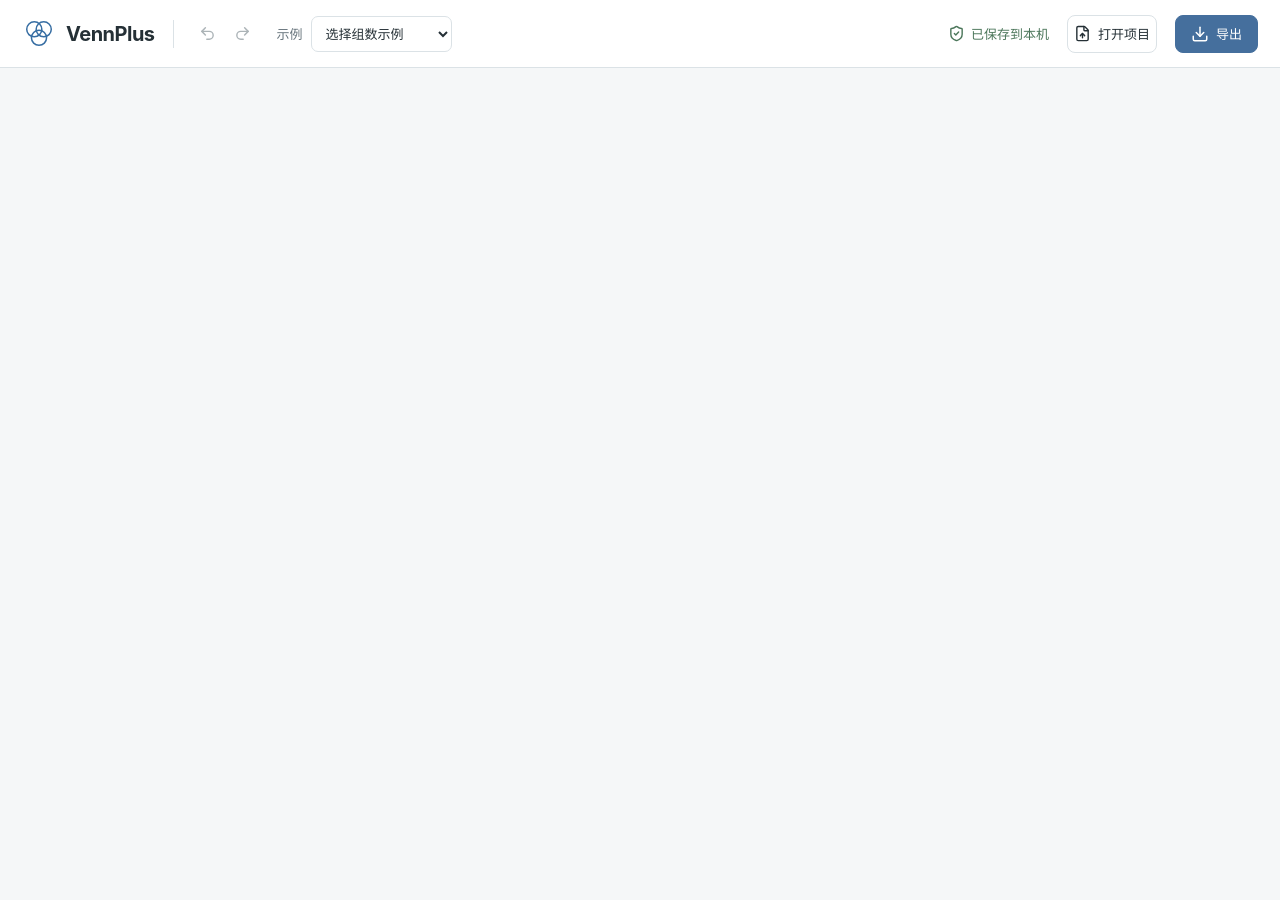
Scenario: AppHeader export dialog › closes when the user clicks outside
Click the button "导出" at (1216, 34), box [1175, 14, 1258, 52]
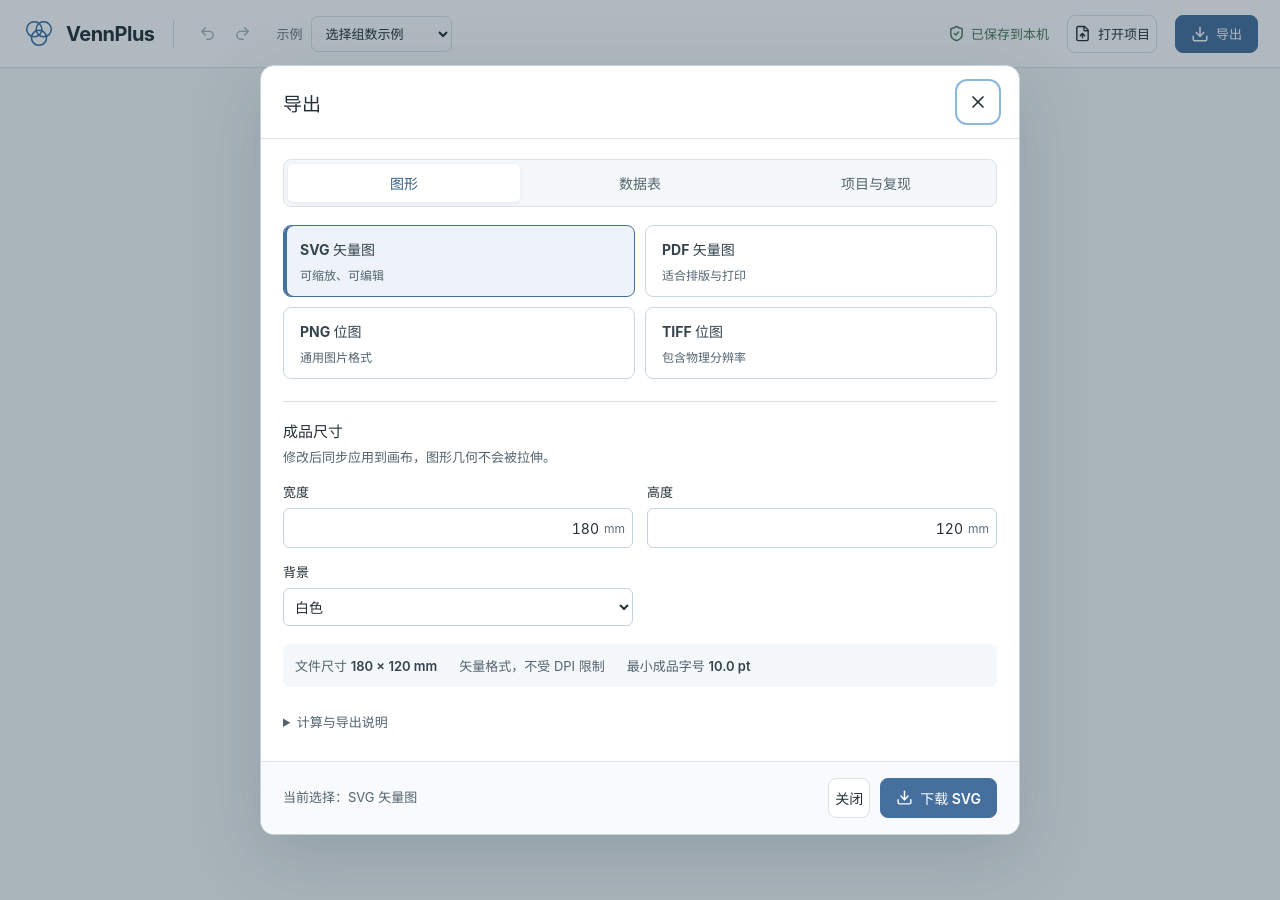
Click the dialog at (640, 450), box [260, 65, 1020, 835]
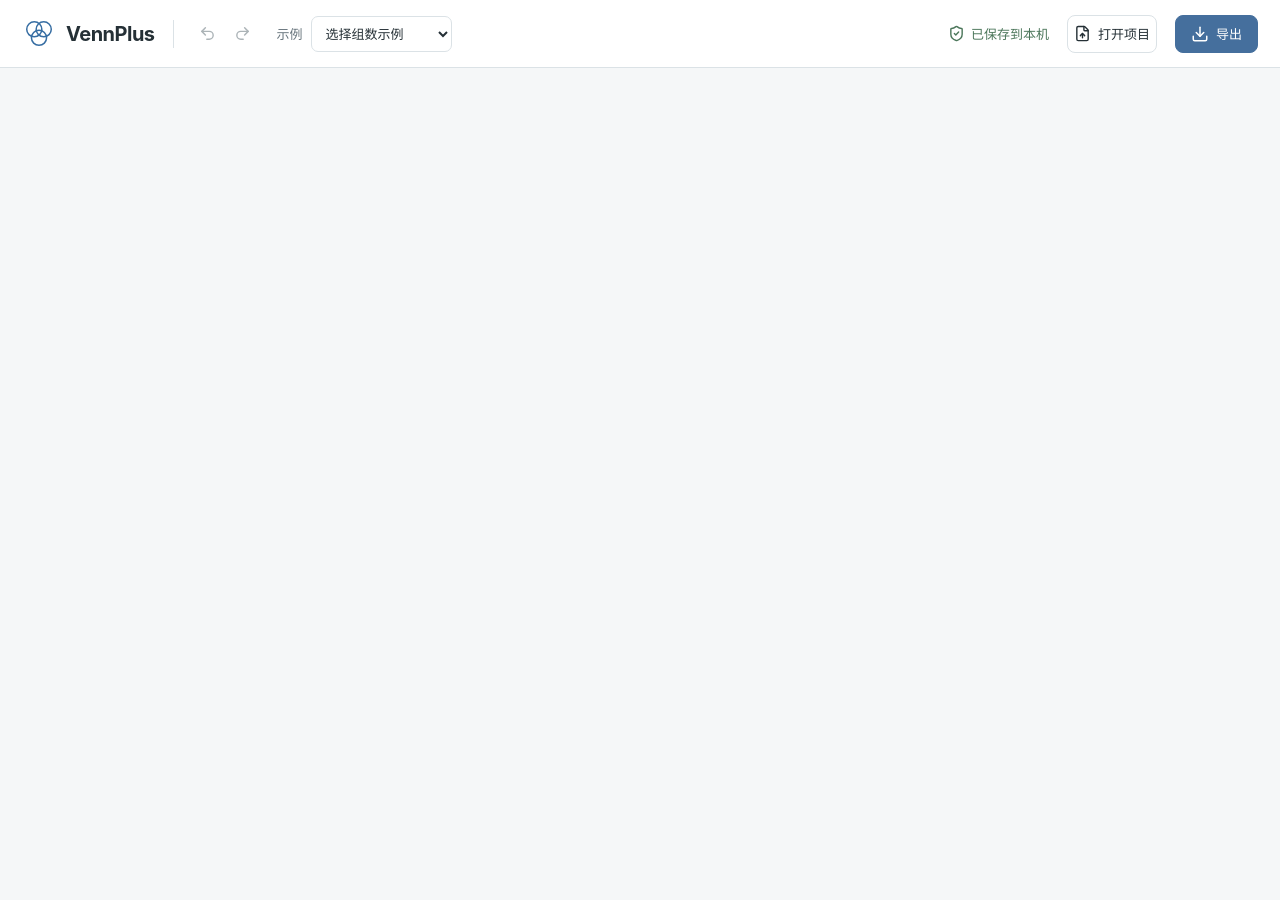
Check: the dialog is gone
